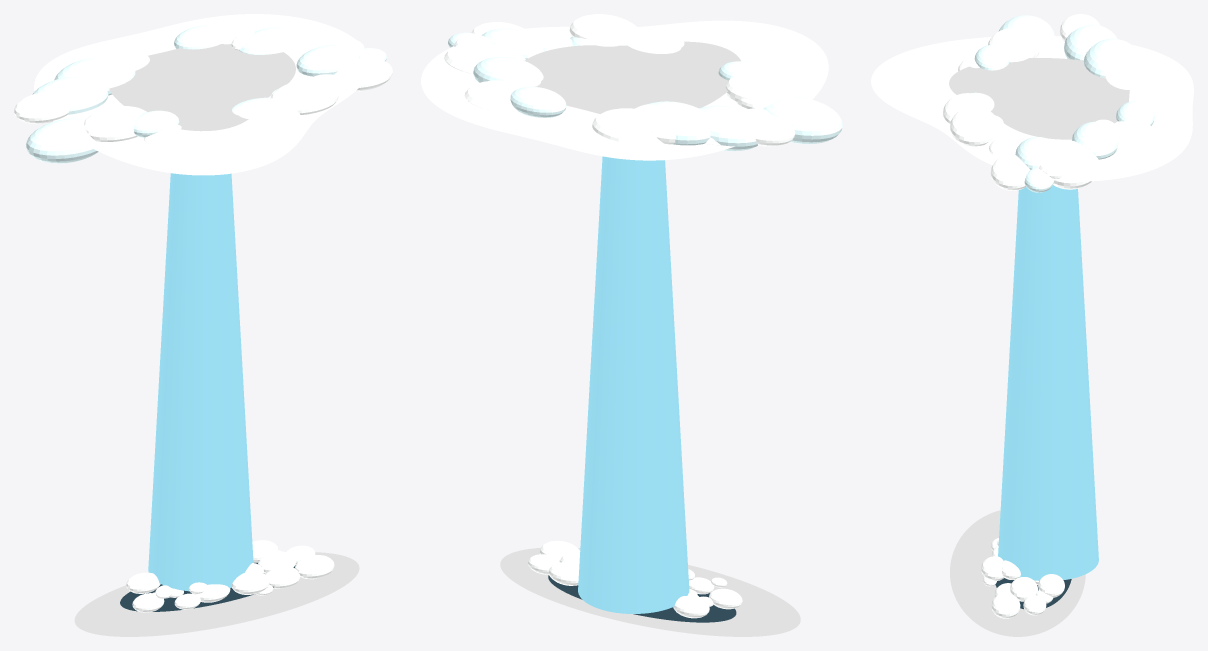
Rendered from skypiea-knock-up-stream.glb.
The picture shows the model from 3 angles, left to right: view 1: azimuth 30°, elevation 25°; view 2: azimuth 150°, elevation 25°; view 3: azimuth 270°, elevation 25°; orthographic projection. The views are drawn at different scales.
Visible parts, largest first — view 1: Knock-Up Stream outer column, Skypiea cloud shelf, Skypiea land heart, Sea eruption footprint, Cloud bank 16, Cloud bank 24, Cloud bank 18, Cloud bank 13, Cloud bank 10, Cloud bank 28, Cloud bank 14, Cloud bank 23 (+12 smaller); view 2: Knock-Up Stream outer column, Skypiea cloud shelf, Skypiea land heart, Sea eruption footprint, Cloud bank 16, Cloud bank 13, Cloud bank 09, Cloud bank 18, Cloud bank 24, Cloud bank 10, Cloud bank 06, Cloud bank 07 (+9 smaller); view 3: Knock-Up Stream outer column, Skypiea cloud shelf, Skypiea land heart, Sea eruption footprint, Cloud bank 24, Cloud bank 03, Cloud bank 06, Cloud bank 04, Cloud bank 09, Cloud bank 18, Cloud bank 13, Cloud bank 27 (+15 smaller).
Part boxes in pixels (<box>): Knock-Up Stream outer column: <box>148,173,253,591</box>; Skypiea cloud shelf: <box>34,14,364,175</box>; Skypiea land heart: <box>109,44,295,131</box>; Sea eruption footprint: <box>74,552,359,636</box>; Cloud bank 16: <box>26,118,98,163</box>; Cloud bank 24: <box>270,79,338,114</box>; Cloud bank 18: <box>84,106,146,141</box>; Cloud bank 13: <box>32,77,108,114</box>; Cloud bank 10: <box>54,58,135,95</box>; Cloud bank 28: <box>296,45,359,76</box>; Cloud bank 14: <box>14,92,70,124</box>; Cloud bank 23: <box>238,98,300,129</box>; Knock-Up Stream outer column: <box>578,156,689,613</box>; Skypiea cloud shelf: <box>421,20,828,160</box>; Skypiea land heart: <box>524,41,740,113</box>; Sea eruption footprint: <box>500,548,800,636</box>; Cloud bank 16: <box>763,97,842,144</box>; Cloud bank 13: <box>699,105,757,151</box>; Cloud bank 09: <box>592,108,663,145</box>; Cloud bank 18: <box>725,72,799,102</box>; Cloud bank 24: <box>569,14,638,45</box>; Cloud bank 10: <box>647,101,710,145</box>; Cloud bank 06: <box>464,80,527,114</box>; Cloud bank 07: <box>510,86,566,117</box>; Knock-Up Stream outer column: <box>998,185,1098,580</box>; Skypiea cloud shelf: <box>871,36,1193,181</box>; Skypiea land heart: <box>949,58,1129,139</box>; Sea eruption footprint: <box>950,510,1085,636</box>; Cloud bank 24: <box>950,106,998,146</box>; Cloud bank 03: <box>1053,140,1098,189</box>; Cloud bank 06: <box>1114,121,1158,155</box>; Cloud bank 04: <box>1072,121,1118,159</box>; Cloud bank 09: <box>1106,62,1158,97</box>; Cloud bank 18: <box>988,28,1036,62</box>; Cloud bank 13: <box>1064,24,1117,60</box>; Cloud bank 27: <box>990,154,1030,190</box>.
Size of the model in its own units: 4.61 by 6.27 by 3.7.
